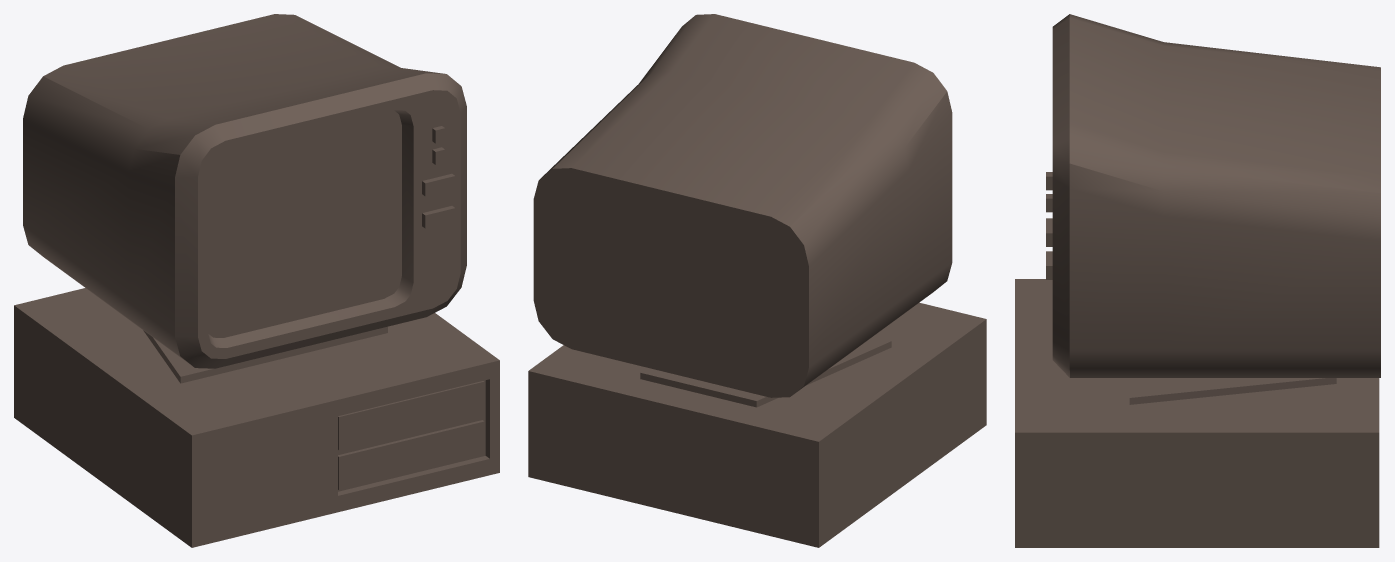
File: DeskComputer.fbx.glb
3 views of the same model, side by side, from view 1: azimuth 30°, elevation 25°; view 2: azimuth 150°, elevation 25°; view 3: azimuth 270°, elevation 25° (orthographic). The views are drawn at different scales.
Visible parts, largest first — view 1: DeskComputer.1; view 2: DeskComputer.1; view 3: DeskComputer.1.
Boxes of the visible parts, x1,y1,x2,y2 form: DeskComputer.1: (14,14,499,547); DeskComputer.1: (528,14,986,547); DeskComputer.1: (1015,14,1380,547).
Bounding box in the file's own units: 41.35 × 50.22 × 41.52.
